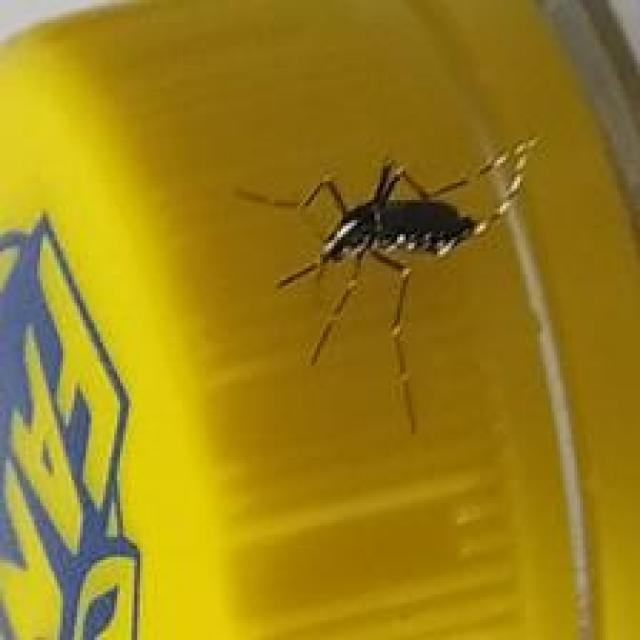Aedes albopictus: (236, 132, 544, 434)
